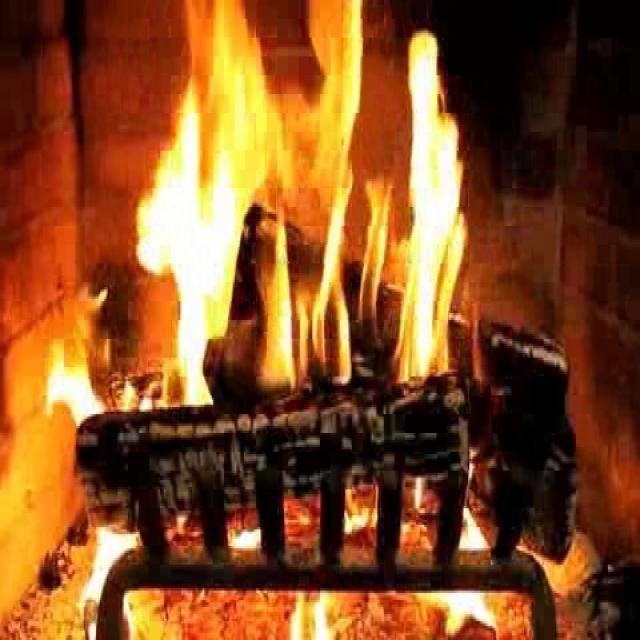Fire: (144, 36, 467, 397)
